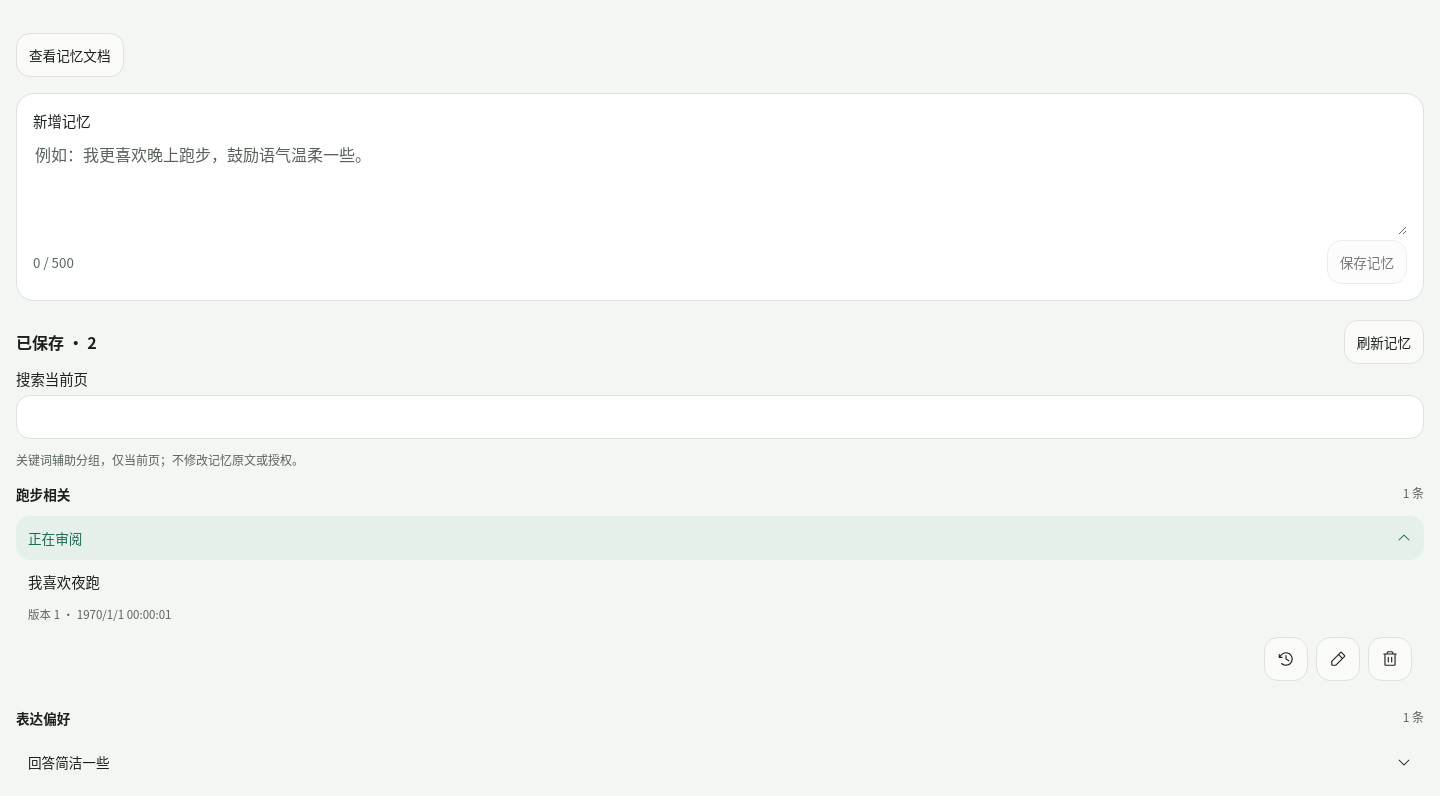
Scenario: 分组审阅仅展开一条且当前页搜索不新增命令
The width and height of the screenshot is (1440, 796).
(page scrolled)
expect the text "我喜欢夜跑" is shown: met, box 28,571 -> 100,592
expect the element "跑步相关" is shown: met, box 16,484 -> 1424,692
Click the button "回答简洁一些".
click(69, 762)  # box 16,740 -> 1424,784
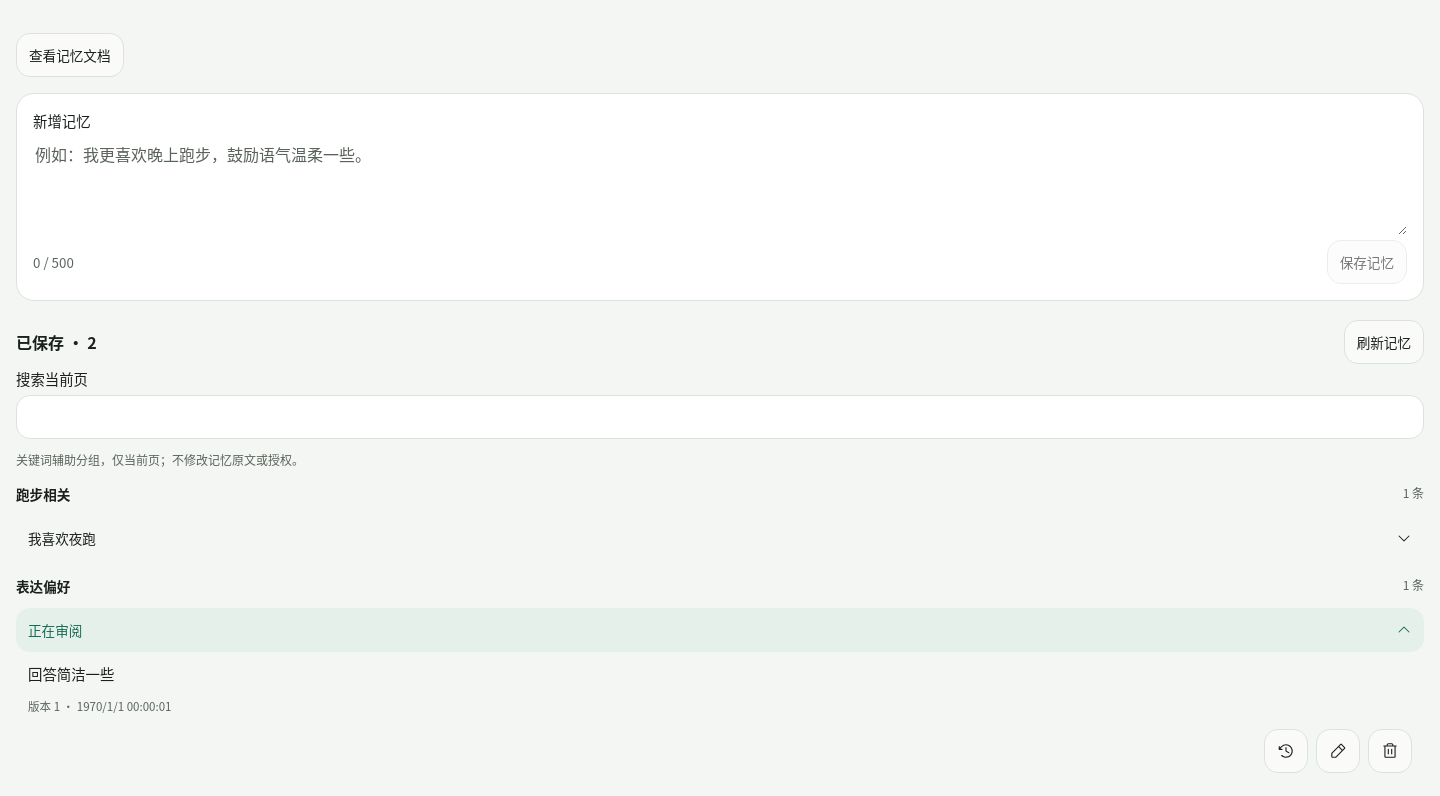
Type "不存在" into the search field labelled "搜索当前页".
click(720, 417); type("不存在")  # box 16,395 -> 1424,439
(page scrolled)
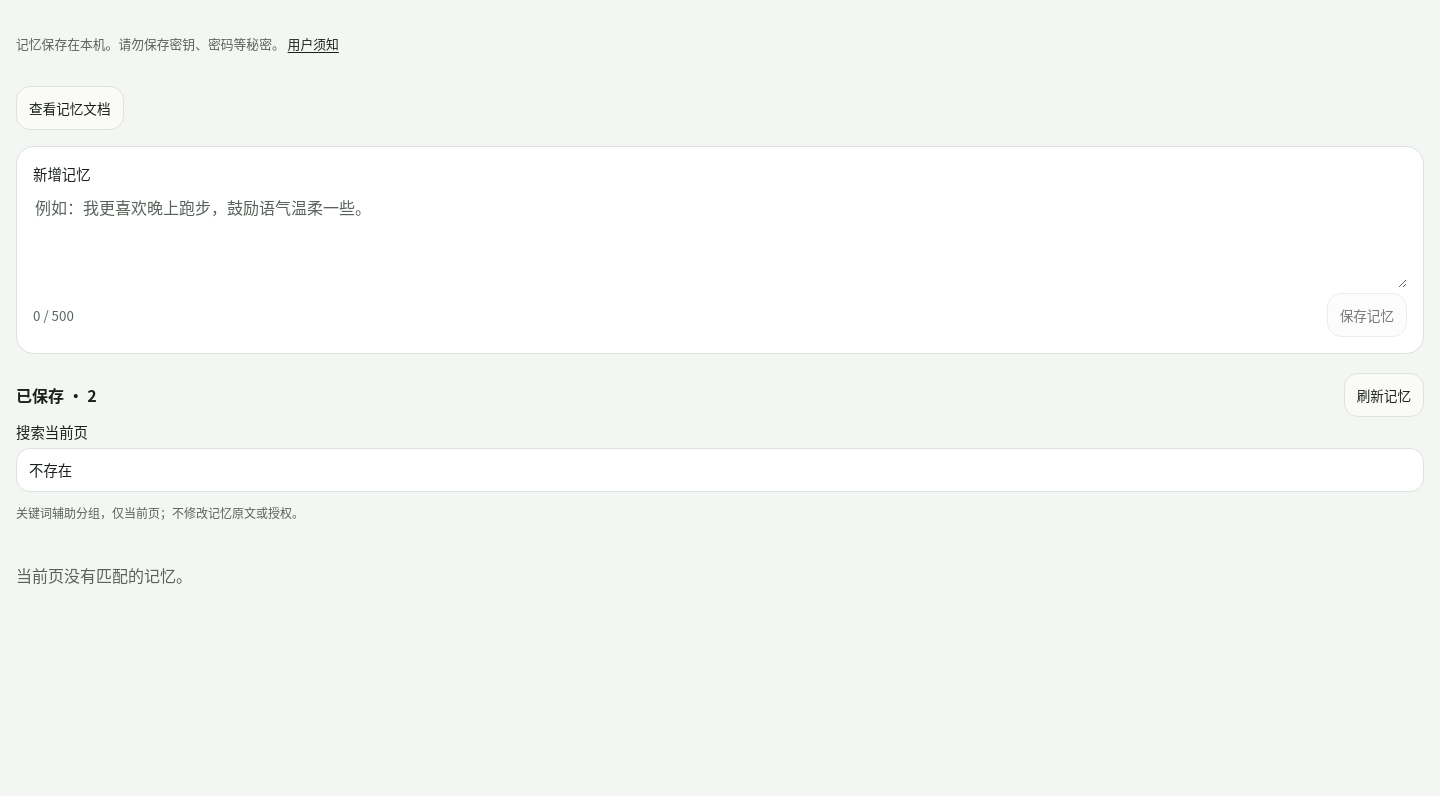
expect the text "当前页没有匹配的记忆。" is shown: met, box 16,563 -> 192,587
